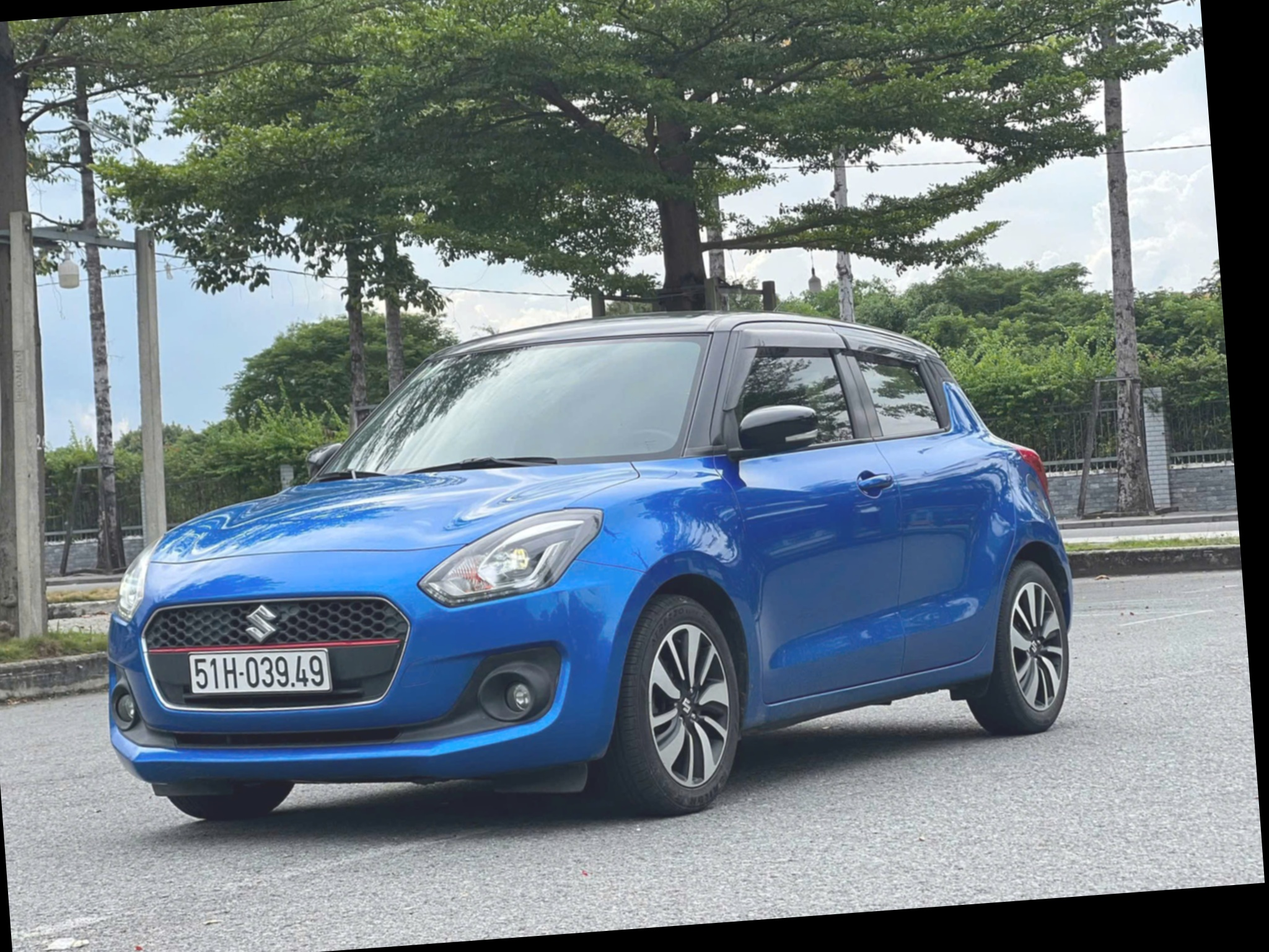Bien-so: (191, 644, 334, 700)
